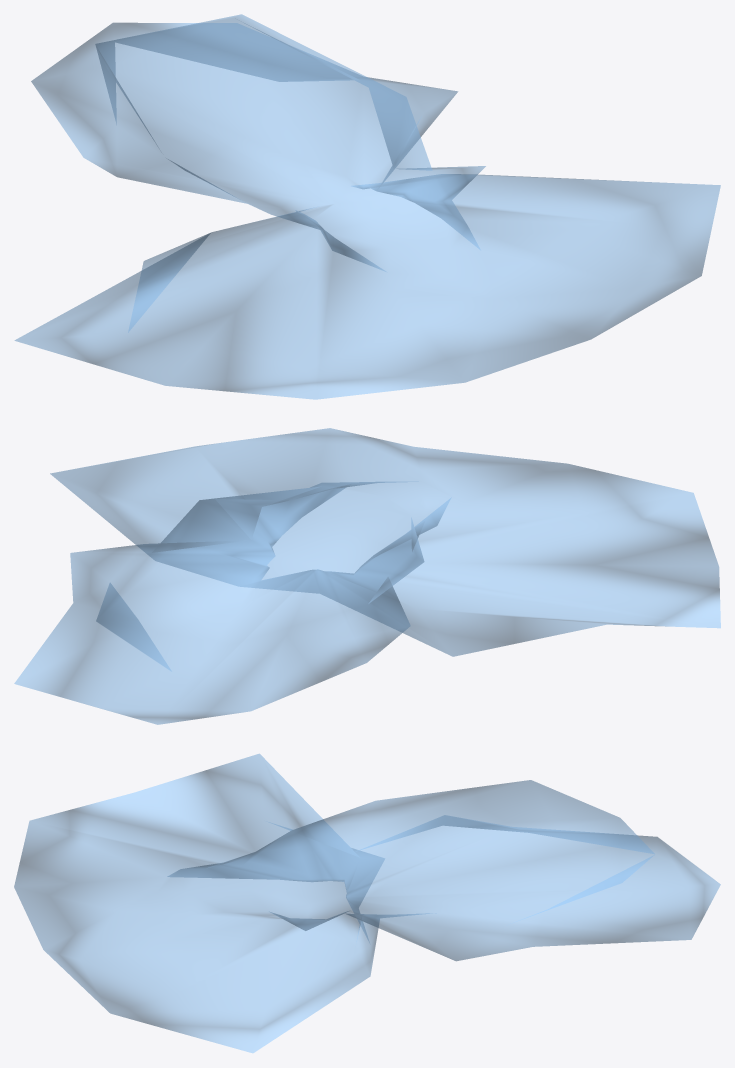
The model's file is tvette_shield.gltf.
The picture shows the model from 3 angles, top to bottom: view 1: azimuth 30°, elevation 25°; view 2: azimuth 150°, elevation 25°; view 3: azimuth 270°, elevation 25°; orthographic projection. The views are drawn at different scales.
Visible parts, largest first — view 1: tvette.shield; view 2: tvette.shield; view 3: tvette.shield.
Boxes of the visible parts, bbox=[...] form: tvette.shield: bbox=[14, 14, 720, 399]; tvette.shield: bbox=[14, 428, 720, 724]; tvette.shield: bbox=[14, 753, 720, 1053].
Bounding box in the file's own units: 7.96 × 1.33 × 8.23.
